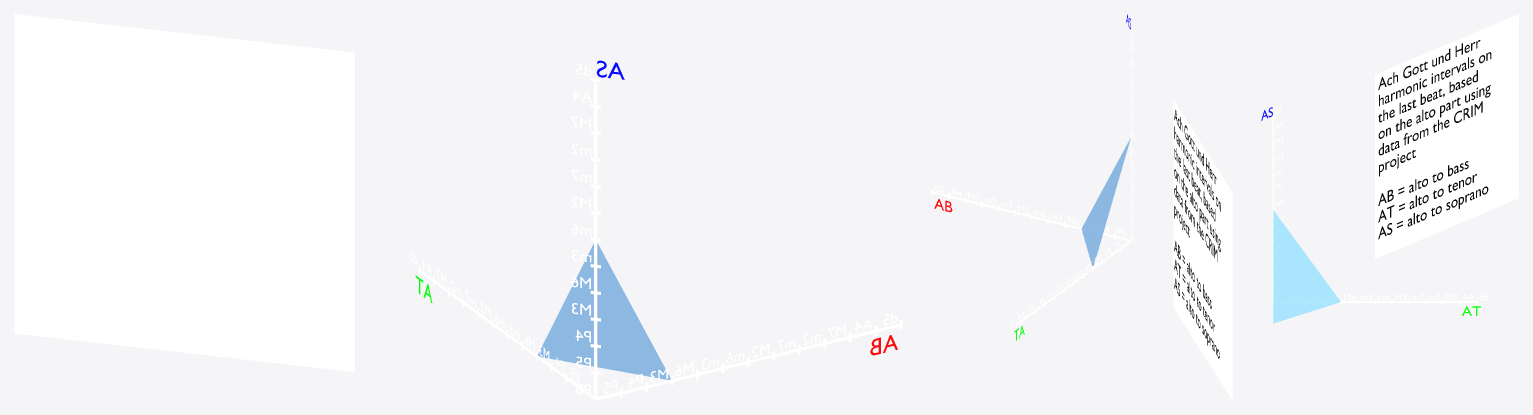
The model's file is altoFinalChart.glb.
3 views of the same model, side by side, from view 1: azimuth 30°, elevation 25°; view 2: azimuth 150°, elevation 25°; view 3: azimuth 270°, elevation 25° (orthographic). The views are drawn at different scales.
Parts seen in each view (by area): view 1: textBox, intervals, z_axis, x_axis, y_axis; view 2: textBox, text, intervals, x_axis, y_axis; view 3: textBox, text, intervals, y_axis, z_axis.
Part boxes in pixels (x1,y1,x2,y2): textBox: (14,14,354,371); intervals: (538,243,670,379); z_axis: (590,77,600,399); x_axis: (595,320,902,400); y_axis: (418,265,595,400); textBox: (1173,99,1232,400); text: (1174,109,1220,358); intervals: (1081,138,1130,265); x_axis: (931,189,1130,241); y_axis: (1015,240,1131,327); textBox: (1375,14,1518,258); text: (1378,40,1491,239); intervals: (1273,210,1340,323); y_axis: (1273,299,1477,304); z_axis: (1271,116,1275,301).
Size of the model in its own units: 2.21 by 1.14 by 1.27.
